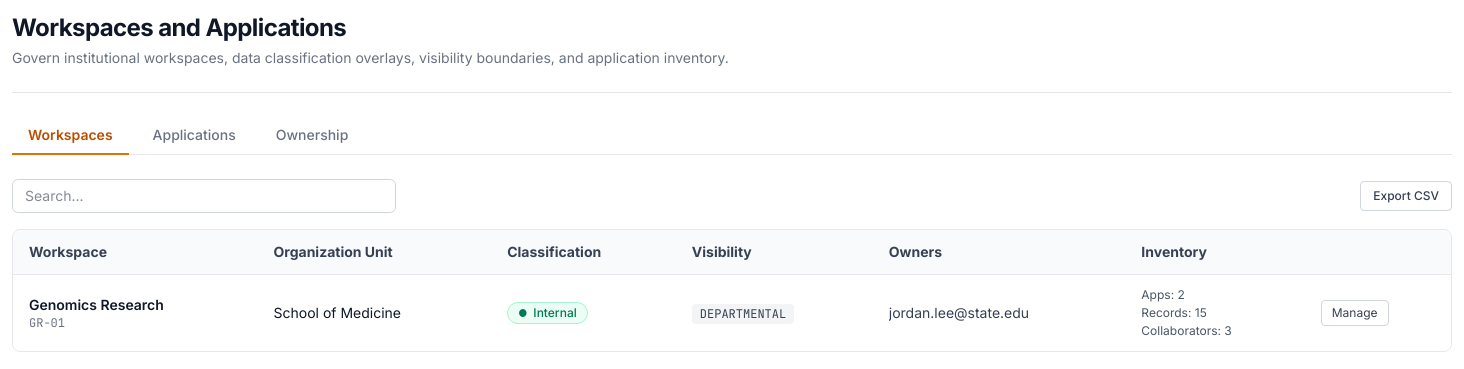
Test case: Admin Workspaces & Apps Component › renders workspaces table and apps table across tabs
expect the text "Genomics Research" is shown: met, box top-left (29, 296), bottom-right (164, 313)
expect the text "GR-01" is shown: met, box top-left (29, 315), bottom-right (65, 331)
// Switch to Applications tab
Click the button with test id "admin-workspaces-subtab-apps": point(194, 136) top-left (137, 117), bottom-right (252, 155)
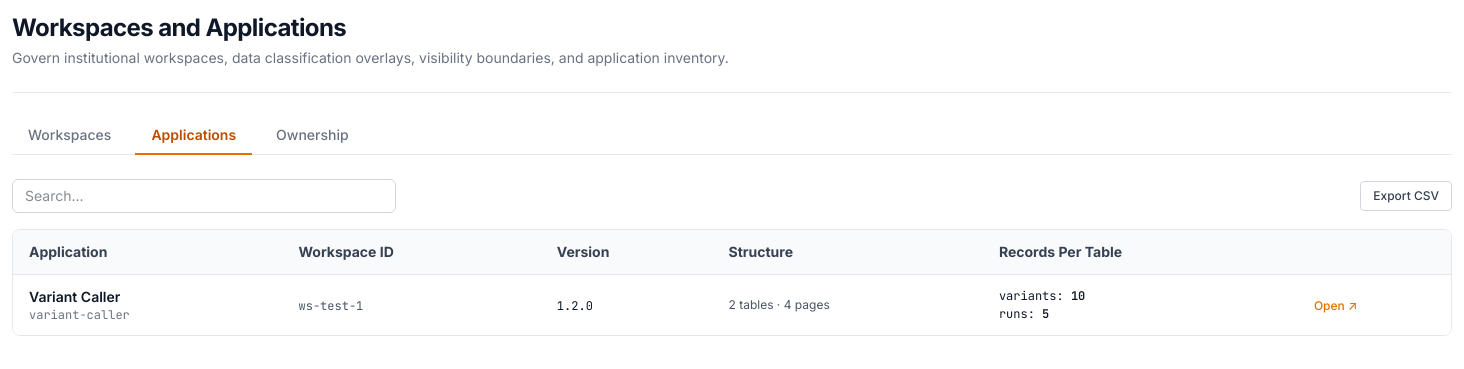
expect the text "Variant Caller" is shown: met, box top-left (29, 288), bottom-right (120, 305)
